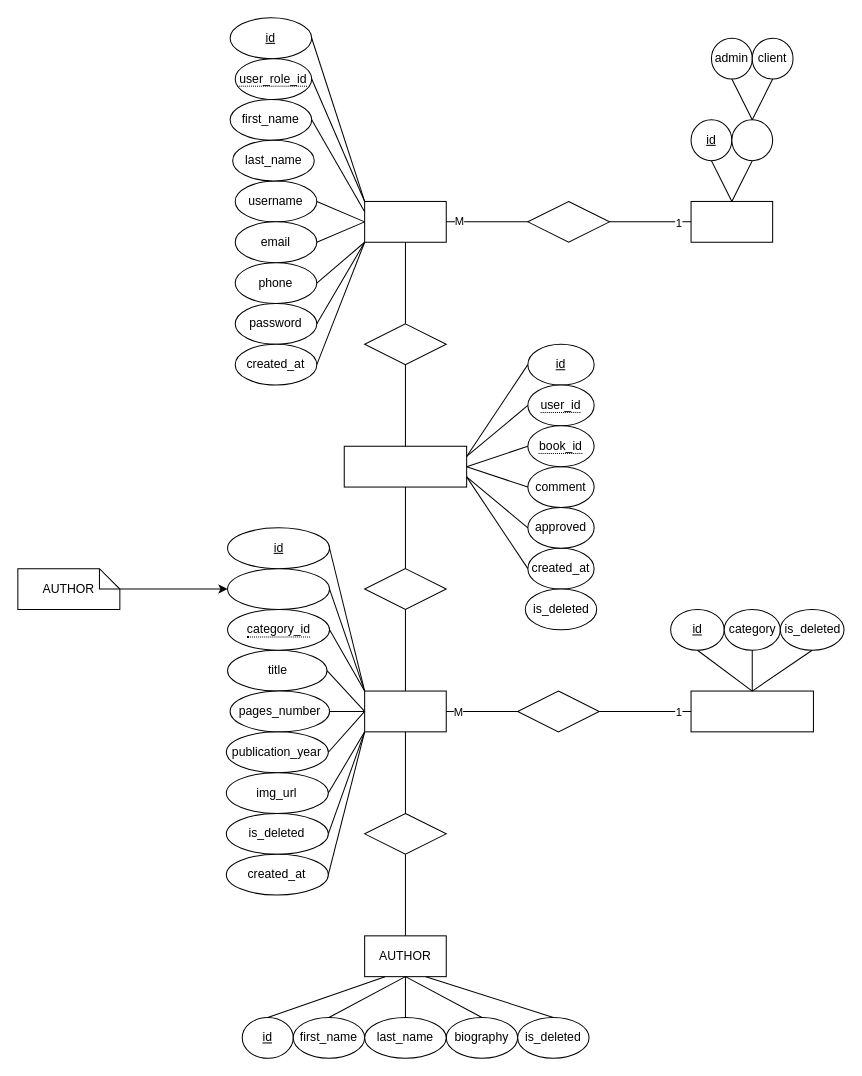
The diagram is 862 pixels wide and 1076 high, and some of its shapes have lost their labels. The centre of each missing label's shape, as x and y in pixels:
author_id: point 278,588
BOOK: point 405,711
BOOK_CATEGORY: point 751,711
BOOK_COMMENT: point 405,466
role: point 752,140
USER: point 405,221
USER_ROLE: point 731,221
